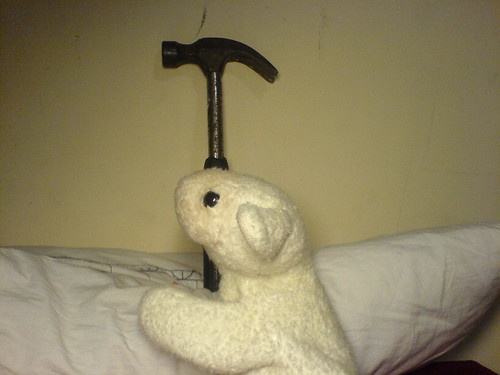hammer: (159, 36, 281, 167)
